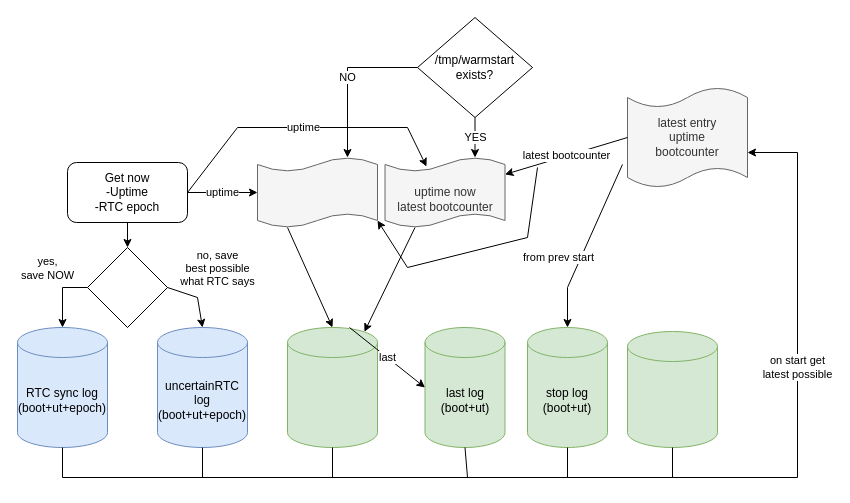
The diagram is 850 pixels wide and 503 high, and some of its shapes have lost their labels. Here are the shapes that lost their labels. From the top down, the box of each, then its label:
(256, 156, 378, 228): uptime now latest bootcounter++
(86, 246, 168, 328): is sync
(286, 326, 378, 448): start log (boot+ut)
(626, 330, 718, 448): app log with boot+ut timestamps
